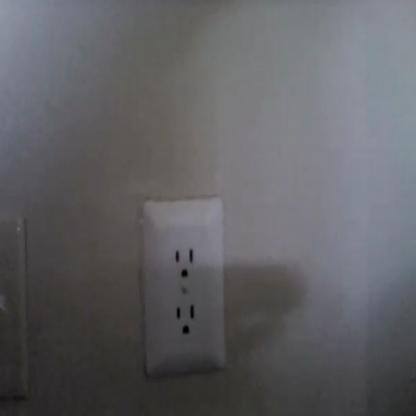OUTLET: (143, 198, 226, 372)
